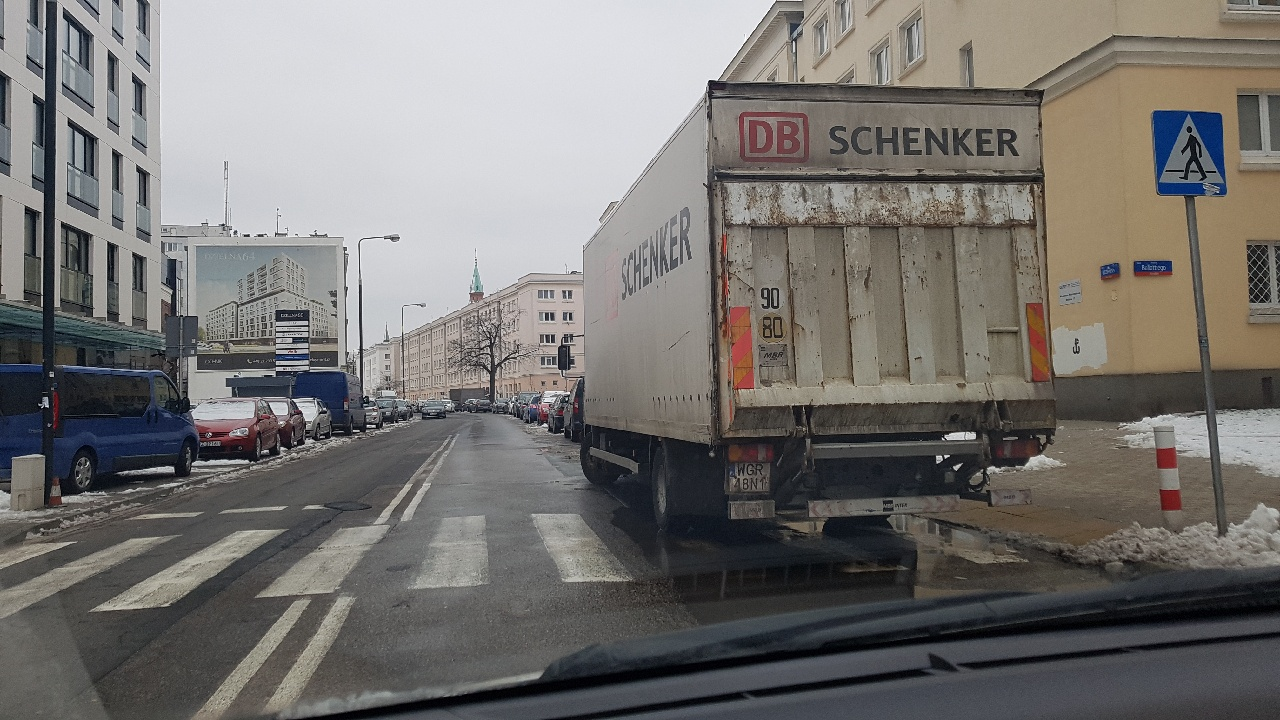D6: (1142, 105, 1235, 197)
